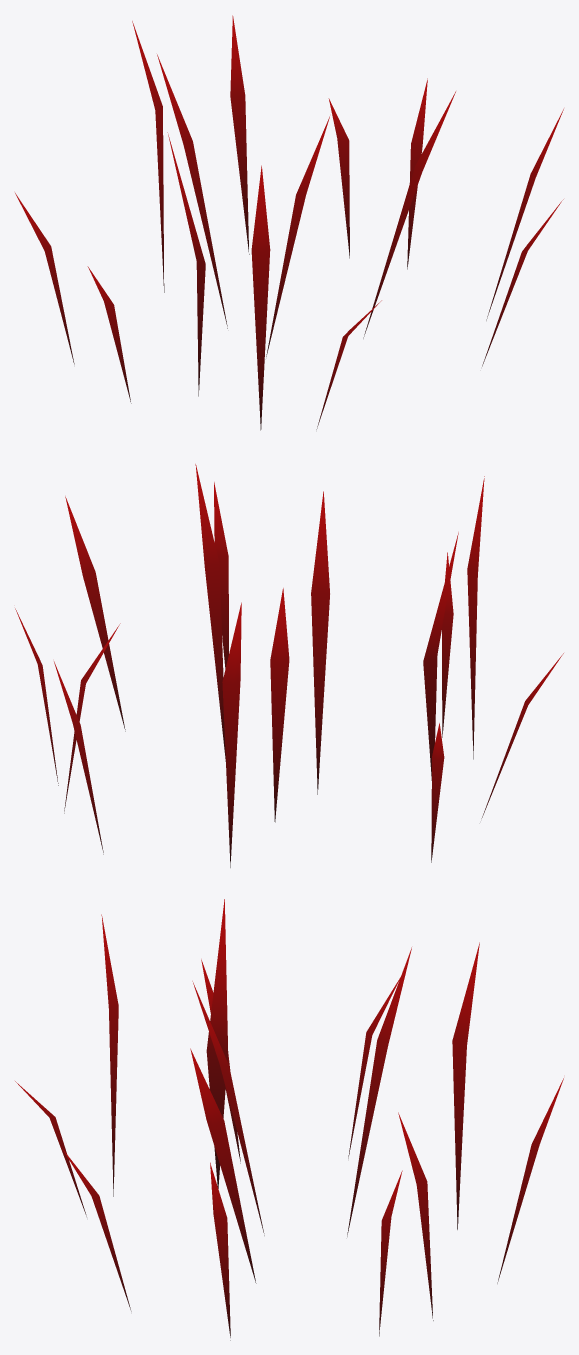
The model's file is Grass_LOD3.fbx.
3 renders of one model, top to bottom at view 1: azimuth 30°, elevation 25°; view 2: azimuth 150°, elevation 25°; view 3: azimuth 270°, elevation 25°, orthographic. The views are drawn at different scales.
Visible parts, largest first — view 1: Grass; view 2: Grass; view 3: Grass.
Part boxes in pixels (<box>): Grass: <box>15,15,563,430</box>; Grass: <box>15,464,563,867</box>; Grass: <box>15,899,563,1340</box>.
Size of the model in its own units: 254 by 138 by 244.
